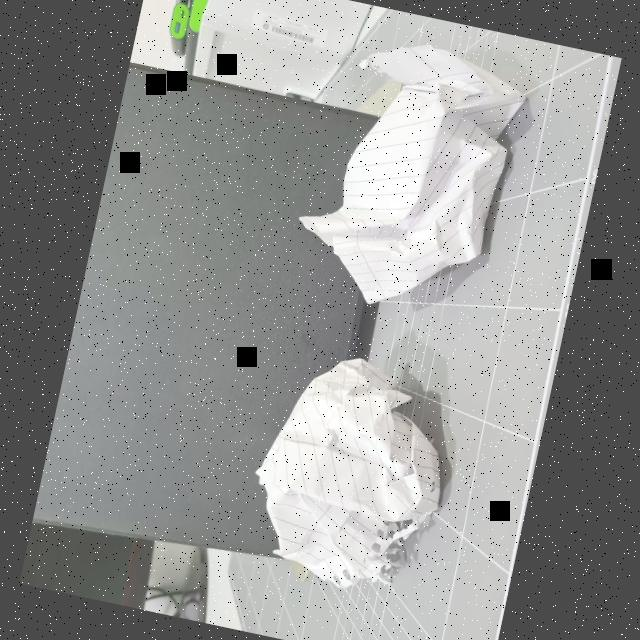scrap_paper: (290, 24, 530, 318), (224, 330, 471, 610)
